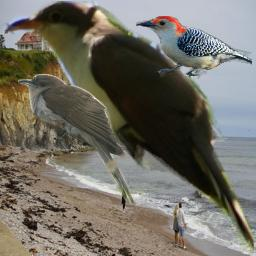Cuckoo: (0, 1, 254, 254), (18, 74, 136, 208)
Woodpecker: (136, 16, 252, 79)
